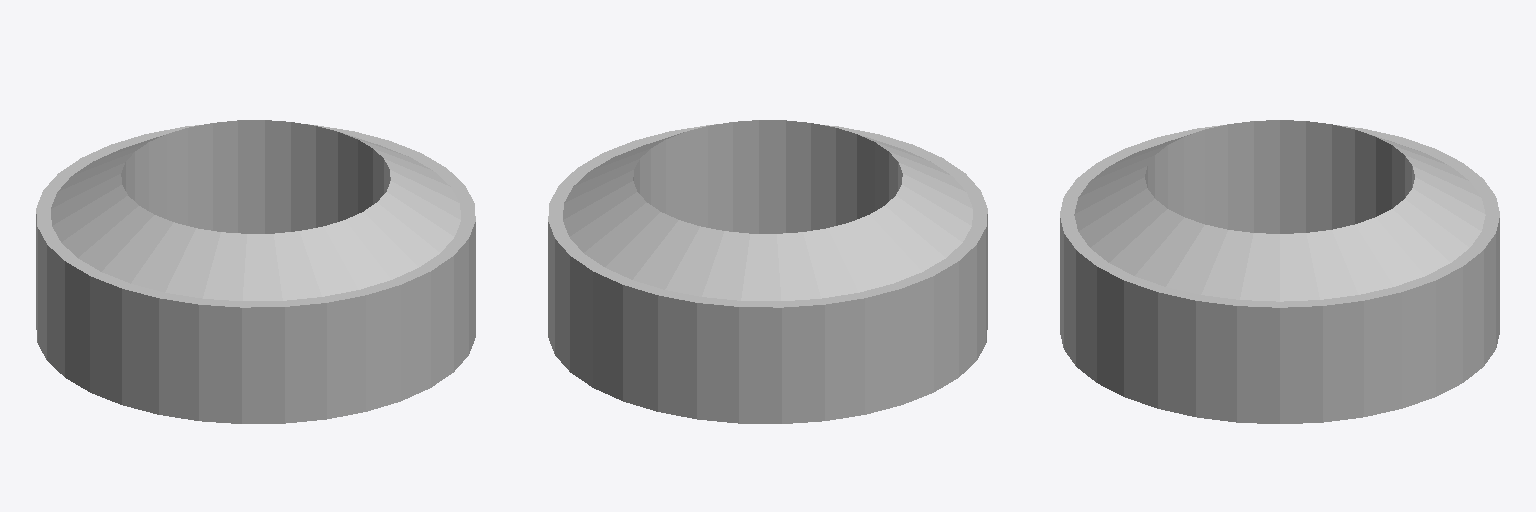
The model's file is buttonSurrounding.obj.
3 renders of one model, left to right at view 1: azimuth 30°, elevation 25°; view 2: azimuth 150°, elevation 25°; view 3: azimuth 270°, elevation 25°, orthographic.
Visible parts, largest first — view 1: Cylinder; view 2: Cylinder; view 3: Cylinder.
Part boxes in pixels (x1,y1,x2,y2): Cylinder: (36,120,475,423); Cylinder: (548,120,987,423); Cylinder: (1060,120,1499,423).
Size of the model in its own units: 4.63 by 1.83 by 4.63.